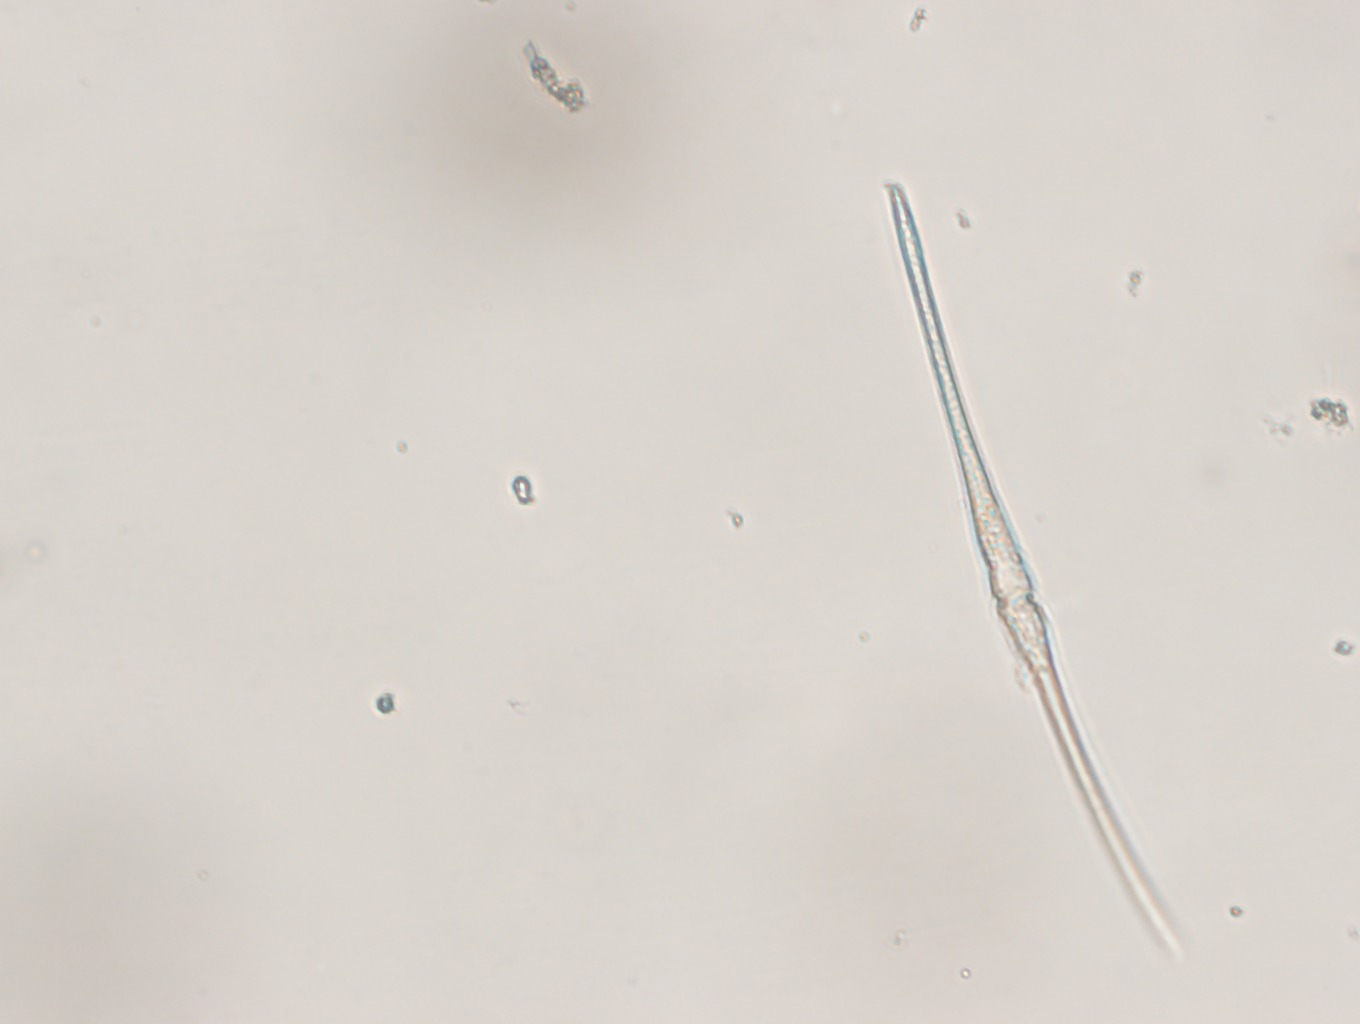ceratium fusus: (874, 177, 1208, 972)
